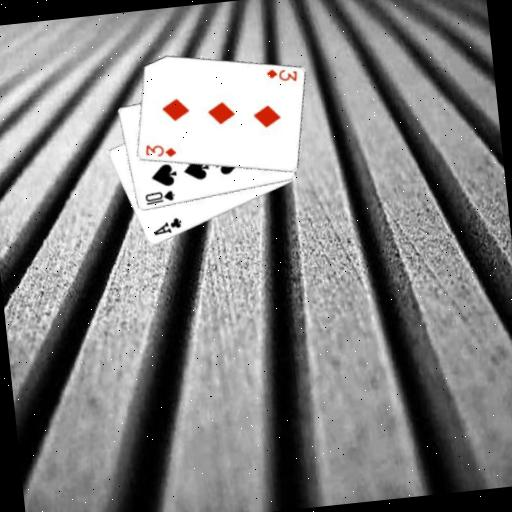10S: (141, 188, 177, 208)
3D: (141, 139, 178, 162), (262, 64, 299, 86)
AC: (150, 215, 184, 238)
